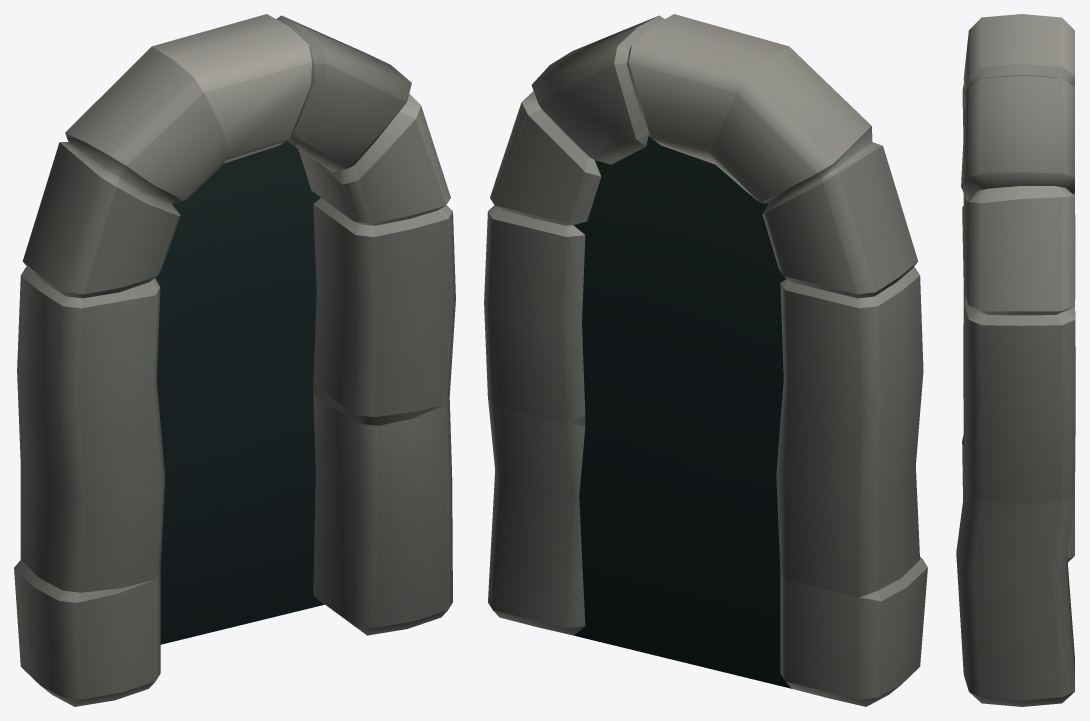
Rendered from doorway_small_round.fbx.
The picture shows the model from 3 angles, left to right: view 1: azimuth 30°, elevation 25°; view 2: azimuth 150°, elevation 25°; view 3: azimuth 270°, elevation 25°; orthographic projection. The views are drawn at different scales.
Visible parts, largest first — view 1: doorway_small_round; view 2: doorway_small_round; view 3: doorway_small_round.
Boxes of the visible parts, x1=… form: doorway_small_round: x1=14, y1=14, x2=455, y2=706; doorway_small_round: x1=484, y1=14, x2=927, y2=706; doorway_small_round: x1=956, y1=14, x2=1075, y2=706.
Bounding box in the file's own units: 206 × 298 × 55.57.
